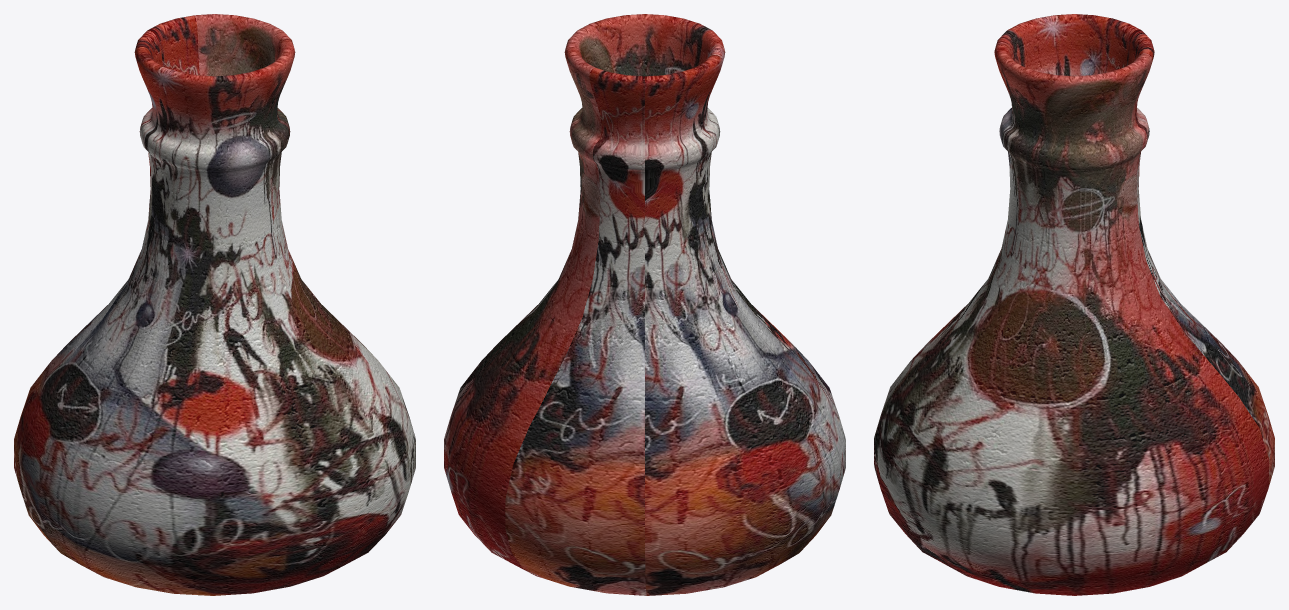
Rendered from Vase.fbx.
3 renders of one model, left to right at view 1: azimuth 30°, elevation 25°; view 2: azimuth 150°, elevation 25°; view 3: azimuth 270°, elevation 25°, orthographic.
Parts seen in each view (by area): view 1: cylinder_vase; view 2: cylinder_vase; view 3: cylinder_vase.
Part boxes in pixels (bbox=[...]): cylinder_vase: bbox=[14, 14, 415, 595]; cylinder_vase: bbox=[444, 14, 845, 595]; cylinder_vase: bbox=[874, 14, 1274, 595].
Size of the model in its own units: 0.6427 by 0.8922 by 0.6385.
